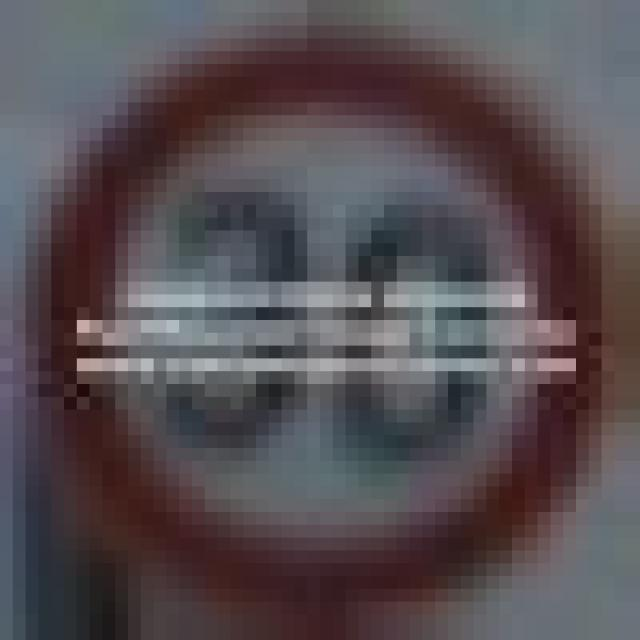SPEED_LIMIT_30: (12, 26, 602, 627)
